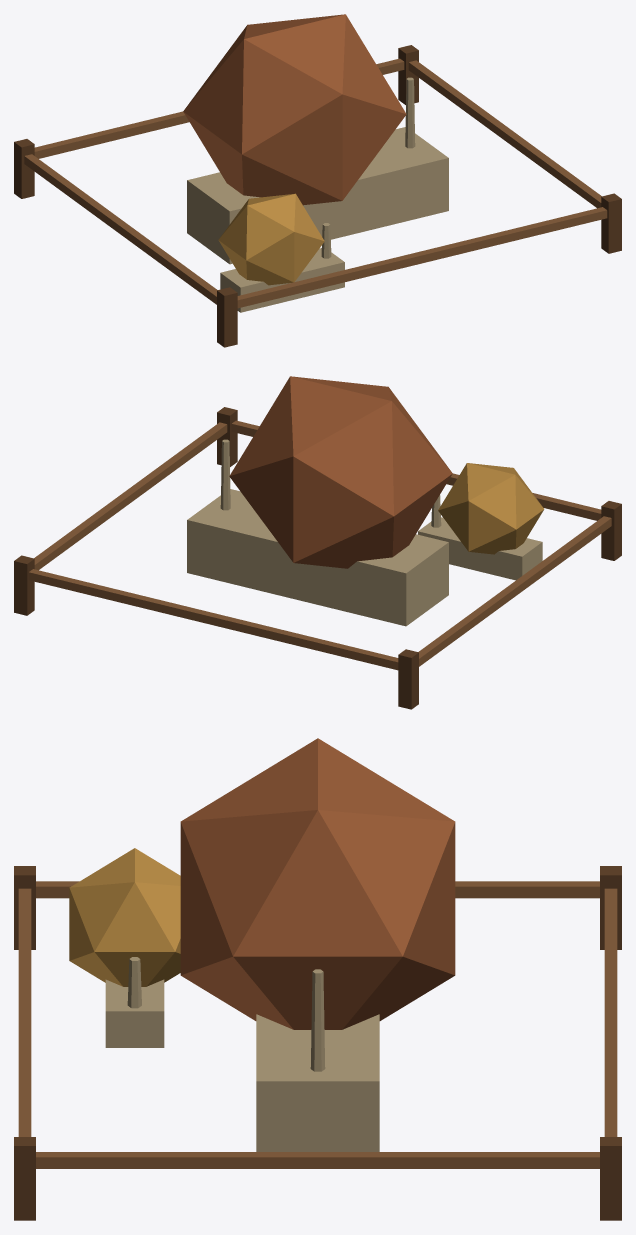
The model's file is snail-ranch.glb.
3 views of the same model, one above another, from view 1: azimuth 30°, elevation 25°; view 2: azimuth 150°, elevation 25°; view 3: azimuth 270°, elevation 25° (orthographic). The views are drawn at different scales.
Parts seen in each view (by area): view 1: snail_ranch; view 2: snail_ranch; view 3: snail_ranch.
Part boxes in pixels (x1,y1,x2,y2): snail_ranch: [14, 14, 621, 347]; snail_ranch: [14, 376, 621, 709]; snail_ranch: [14, 738, 621, 1220].
Bounding box in the file's own units: 0.362 × 0.175 × 0.332.
